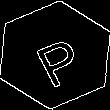P_NW: (25, 24, 85, 86)
